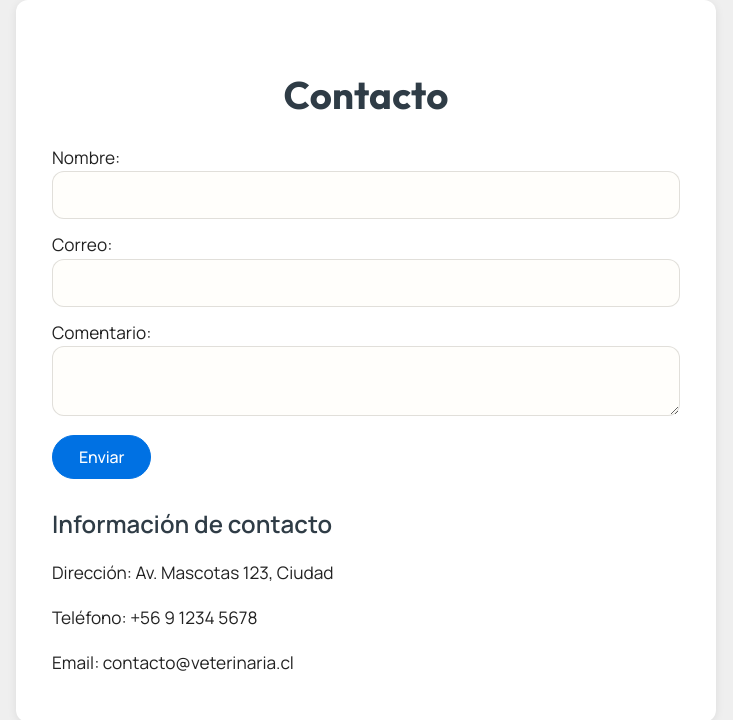
Test: Contacto › guarda el mensaje en localStorage al enviar correctamente
Step 1. Type "Juan Pérez" into the field with id "nombre" → (366, 195), box x1=52 y1=171 x2=680 y2=219
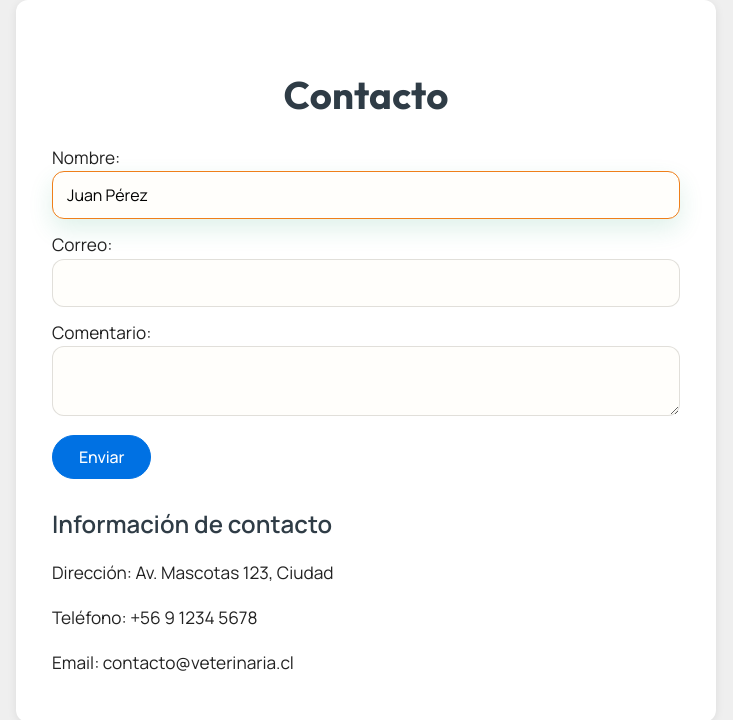
Step 2. Type "juan@example.com" into the field with id "correo" → (366, 283), box x1=52 y1=259 x2=680 y2=307
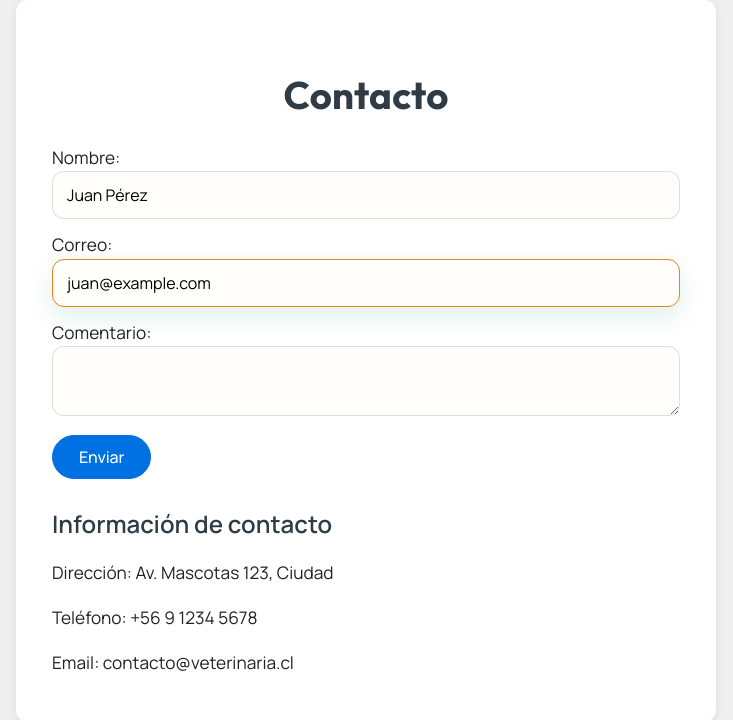
Step 3. Type "Mensaje de prueba" into the text box with id "comentario" → (366, 382), box x1=52 y1=346 x2=680 y2=416
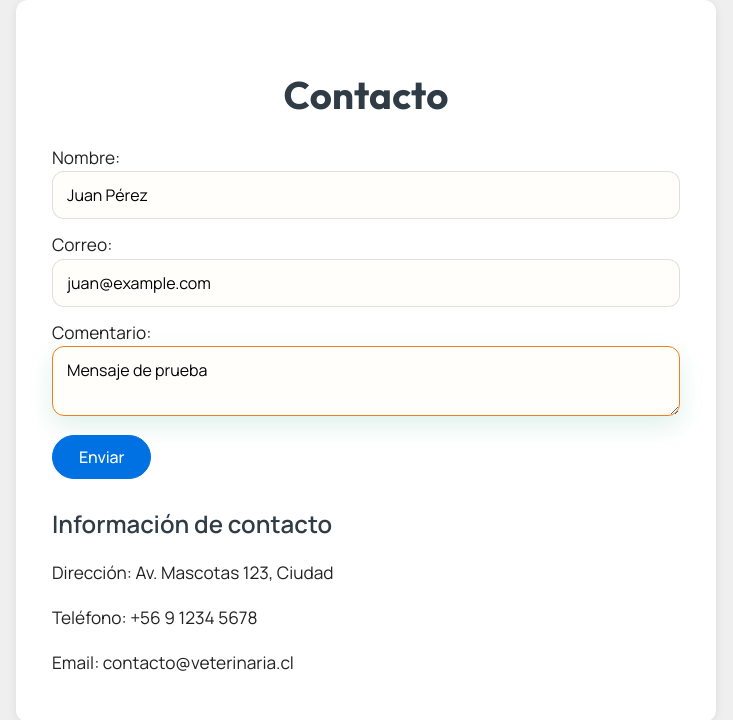
Step 4. Click the button "Enviar" → click(102, 457), box x1=52 y1=435 x2=151 y2=479
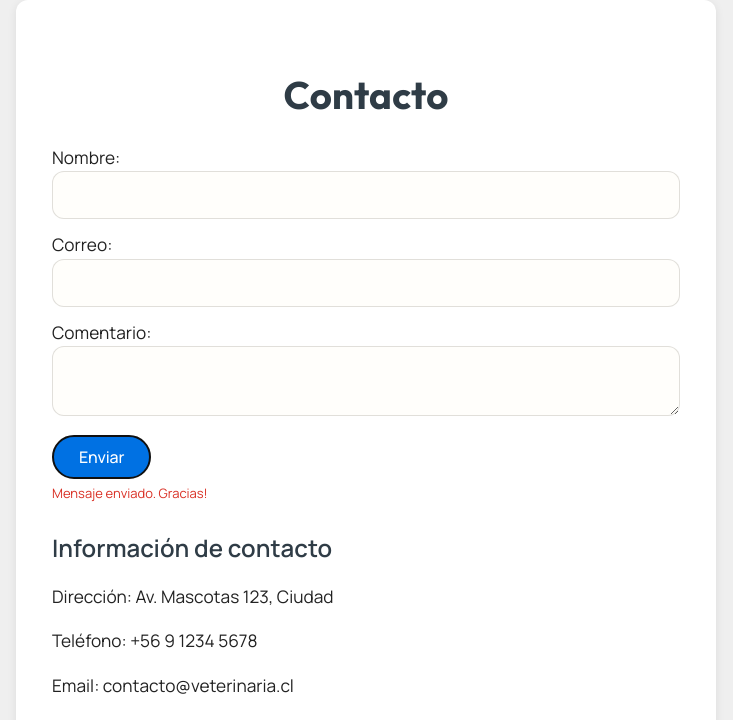
Now the text "Mensaje enviado. Gracias!" is shown, box x1=52 y1=484 x2=208 y2=502
